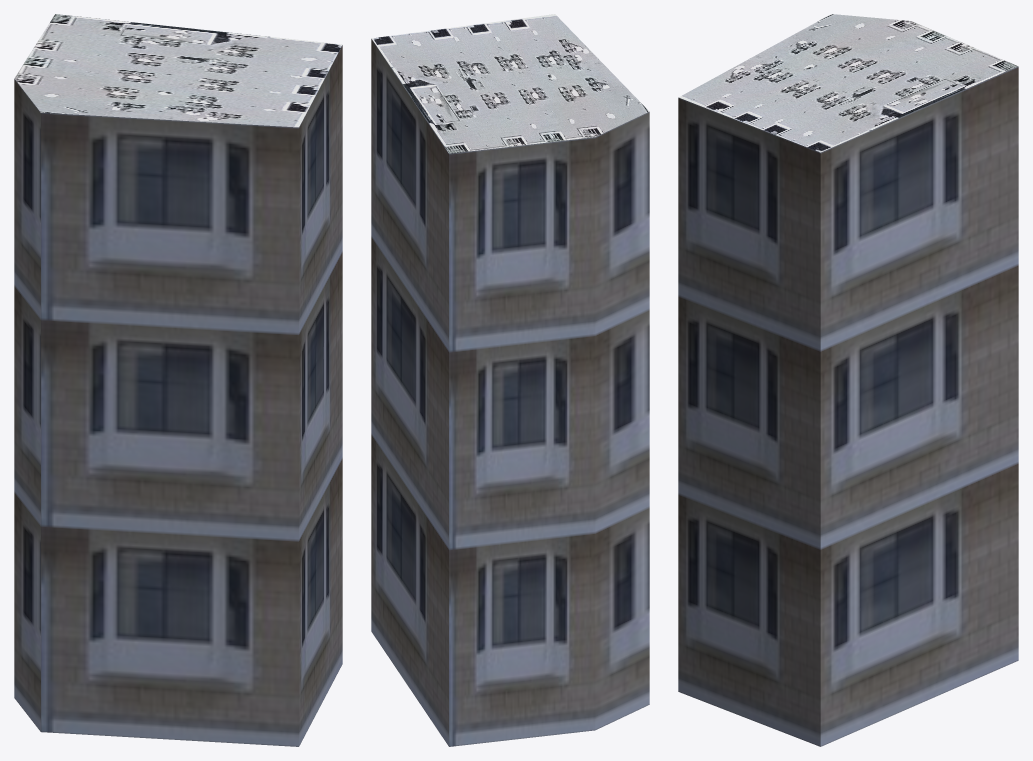
The model's file is ResTex__4635.fbx.
3 views of the same model, side by side, from view 1: azimuth 30°, elevation 25°; view 2: azimuth 150°, elevation 25°; view 3: azimuth 270°, elevation 25° (orthographic). The views are drawn at different scales.
Visible parts, largest first — view 1: CityEngineMaterial_3_m, CityEngineMaterial_8_m; view 2: CityEngineMaterial_3_m, CityEngineMaterial_8_m; view 3: CityEngineMaterial_3_m, CityEngineMaterial_8_m.
Boxes of the visible parts, <box> form: CityEngineMaterial_3_m: <box>14,45,342,746</box>; CityEngineMaterial_8_m: <box>14,14,342,127</box>; CityEngineMaterial_3_m: <box>371,39,649,746</box>; CityEngineMaterial_8_m: <box>371,14,648,153</box>; CityEngineMaterial_3_m: <box>678,66,1018,746</box>; CityEngineMaterial_8_m: <box>678,14,1017,152</box>.
Size of the model in its own units: 4.5 by 9 by 4.67.
2 materials, 2 textured.
